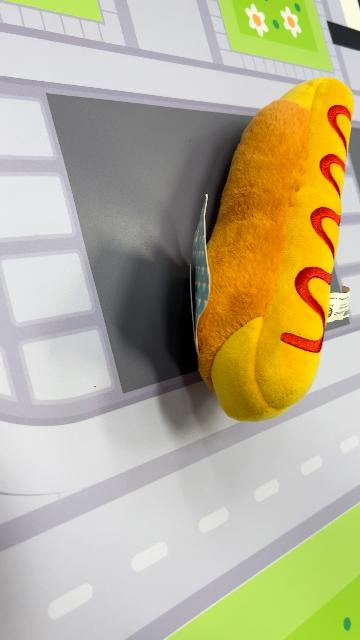hotdog: (194, 75, 354, 423)
